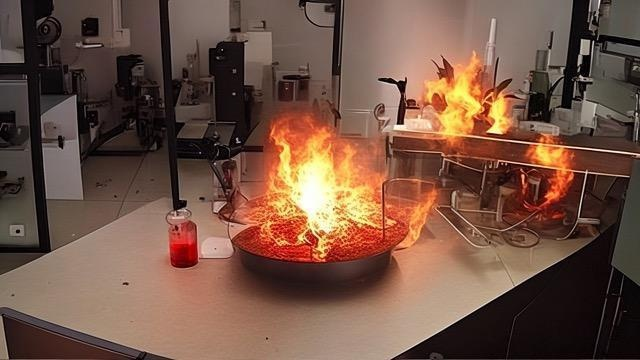fire: (222, 94, 407, 261), (412, 50, 598, 195)
